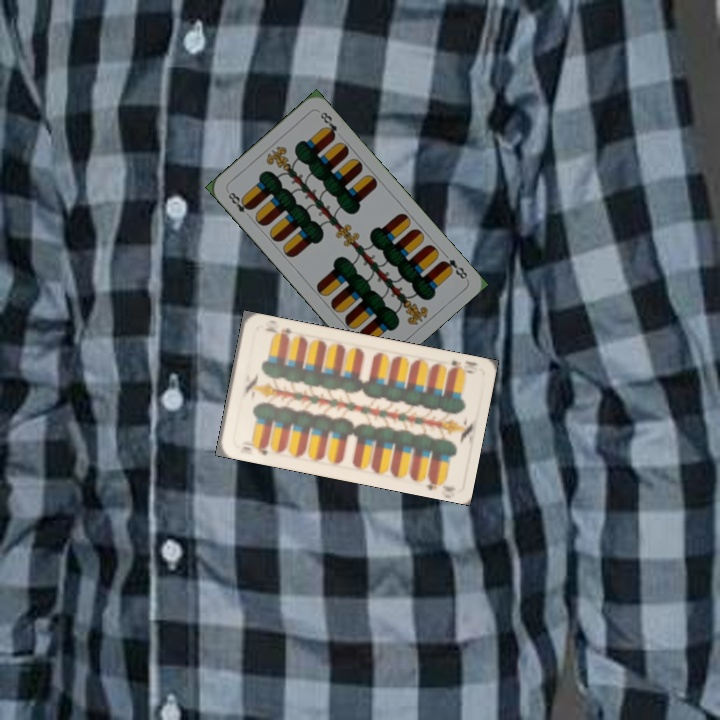E10: (444, 356, 481, 377), (238, 437, 270, 458)
E8: (223, 187, 254, 216), (437, 255, 470, 282)
